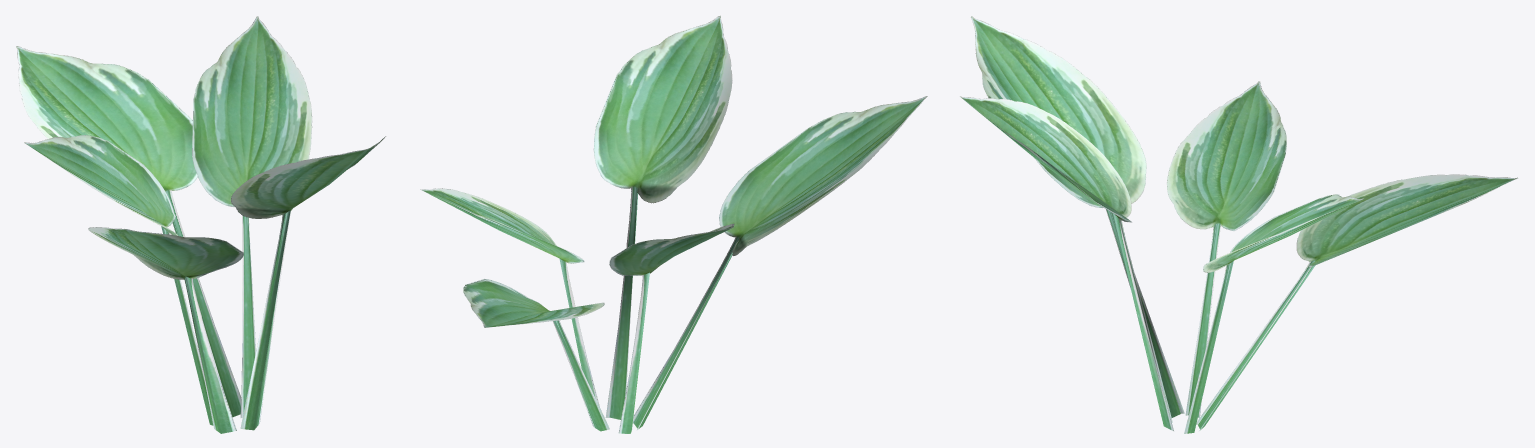
The model's file is plant_small_wg_03AA.fbx.
3 views of the same model, side by side, from view 1: azimuth 30°, elevation 25°; view 2: azimuth 150°, elevation 25°; view 3: azimuth 270°, elevation 25° (orthographic). The views are drawn at different scales.
Visible parts, largest first — view 1: plant_small_wg_03AA; view 2: plant_small_wg_03AA; view 3: plant_small_wg_03AA.
Part boxes in pixels (x1,y1,x2,y2): plant_small_wg_03AA: (16,16,385,433); plant_small_wg_03AA: (420,15,927,433); plant_small_wg_03AA: (960,16,1517,433).
Bounding box in the file's own units: 57.88 × 56.09 × 86.21.
